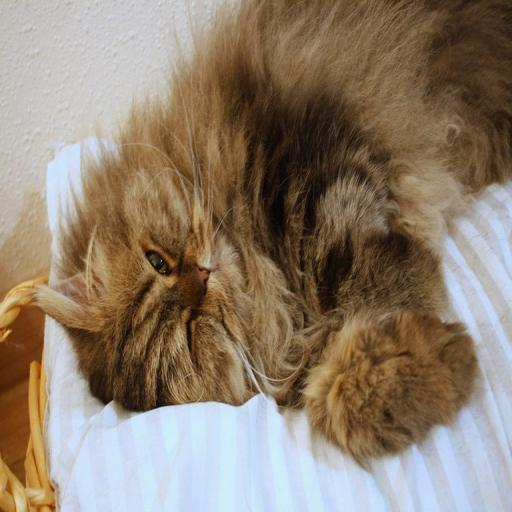cat: (28, 0, 512, 471)
